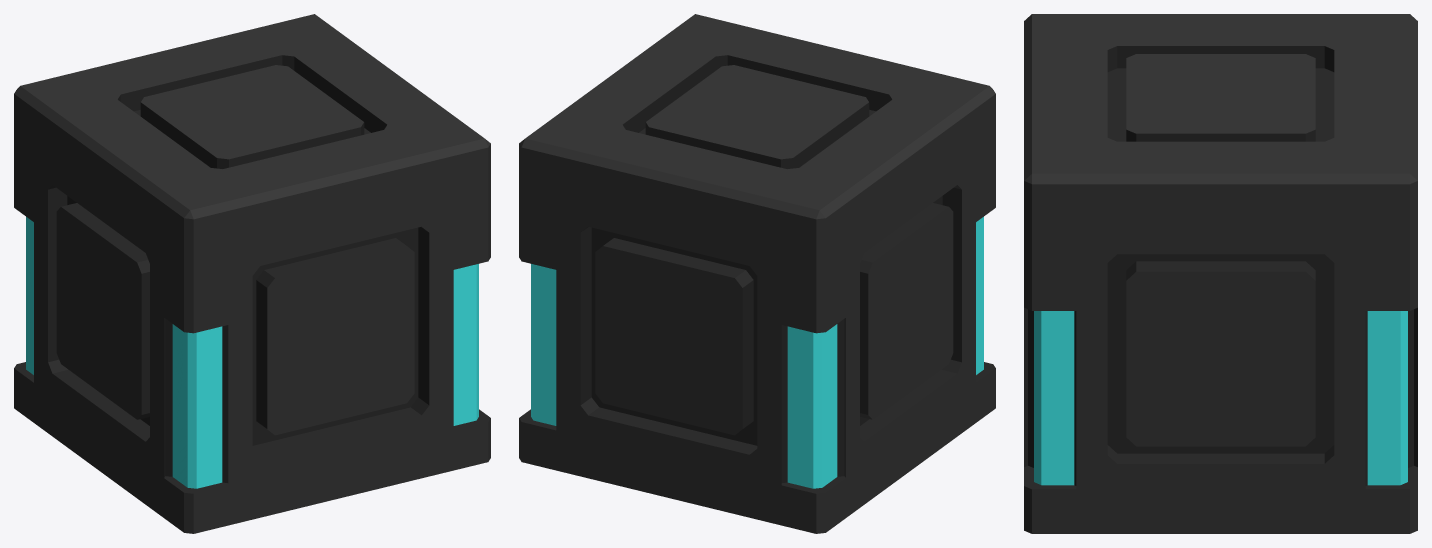
The model's file is HJD_SFB_Crate_01.fbx.
3 renders of one model, left to right at view 1: azimuth 30°, elevation 25°; view 2: azimuth 150°, elevation 25°; view 3: azimuth 270°, elevation 25°, orthographic. The views are drawn at different scales.
Visible parts, largest first — view 1: HJD_SFB_Asset; view 2: HJD_SFB_Asset; view 3: HJD_SFB_Asset.
Boxes of the visible parts, left/top/right/bottom form: HJD_SFB_Asset: left=14, top=14, right=490, bottom=533; HJD_SFB_Asset: left=519, top=14, right=995, bottom=533; HJD_SFB_Asset: left=1024, top=14, right=1417, bottom=533.
Bounding box in the file's own units: 80 × 80 × 80.
